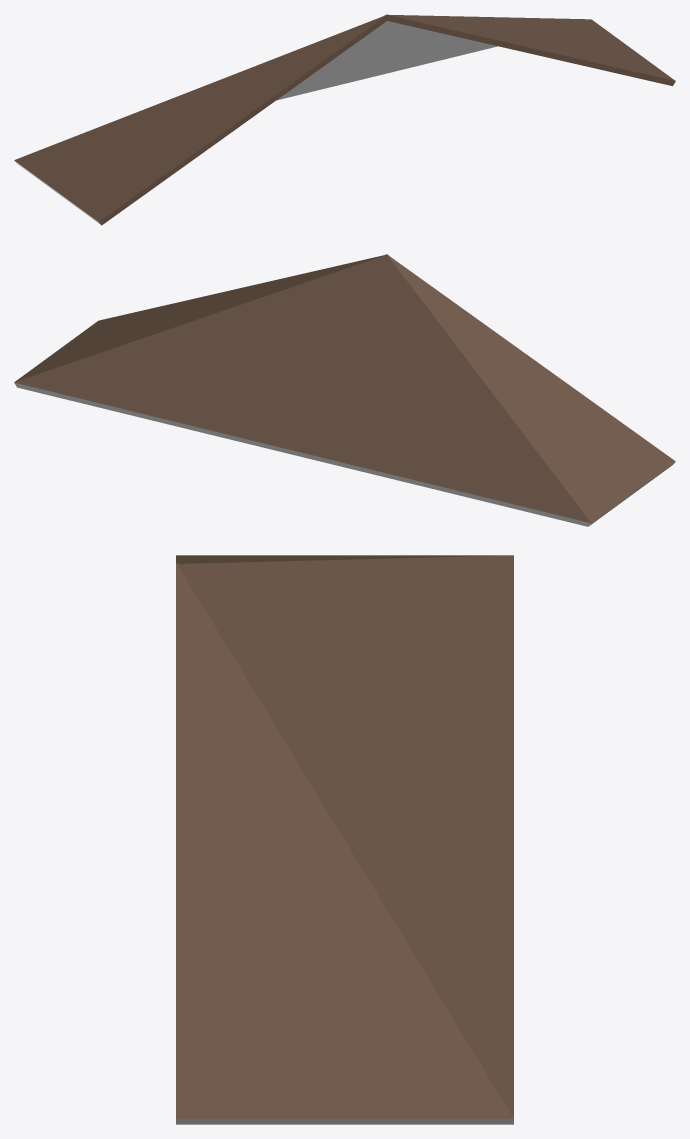
The model's file is Roof5_C2_02.fbx.
3 views of the same model, one above another, from view 1: azimuth 30°, elevation 25°; view 2: azimuth 150°, elevation 25°; view 3: azimuth 270°, elevation 25° (orthographic). The views are drawn at different scales.
Visible parts, largest first — view 1: Roof5_C2_02; view 2: Roof5_C2_02; view 3: Roof5_C2_02.
Boxes of the visible parts, box(x1,y1,x2,y2) form: Roof5_C2_02: box(14, 14, 675, 225); Roof5_C2_02: box(14, 254, 675, 526); Roof5_C2_02: box(176, 555, 513, 1124).
Bounding box in the file's own units: 1105 × 258 × 280.
